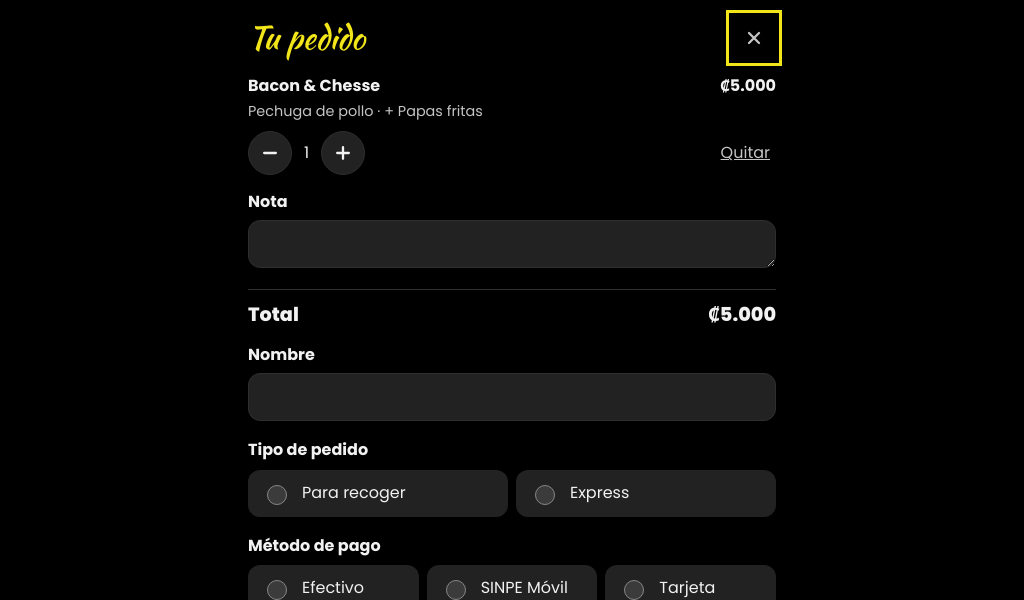
Scenario: OrderView › suma el envío al total cuando hay costo y es express
Click the radio button labelled "Express" at (545, 495), box [535,485,555,505]
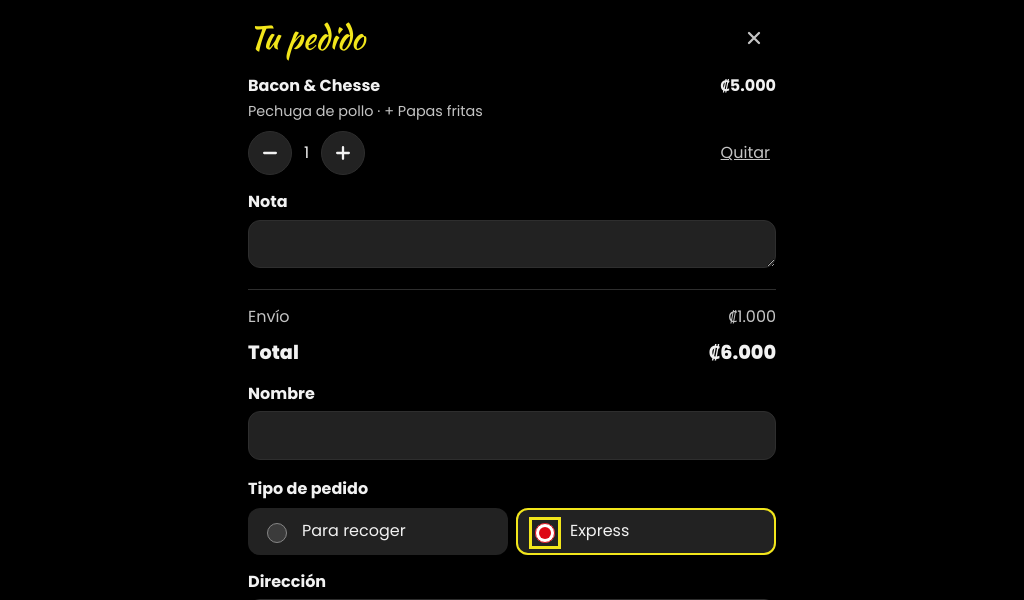
Expected: the text "₡1.000" is shown, [728,306,776,328]
Expected: the text "₡6.000" is shown, [709,340,776,367]
